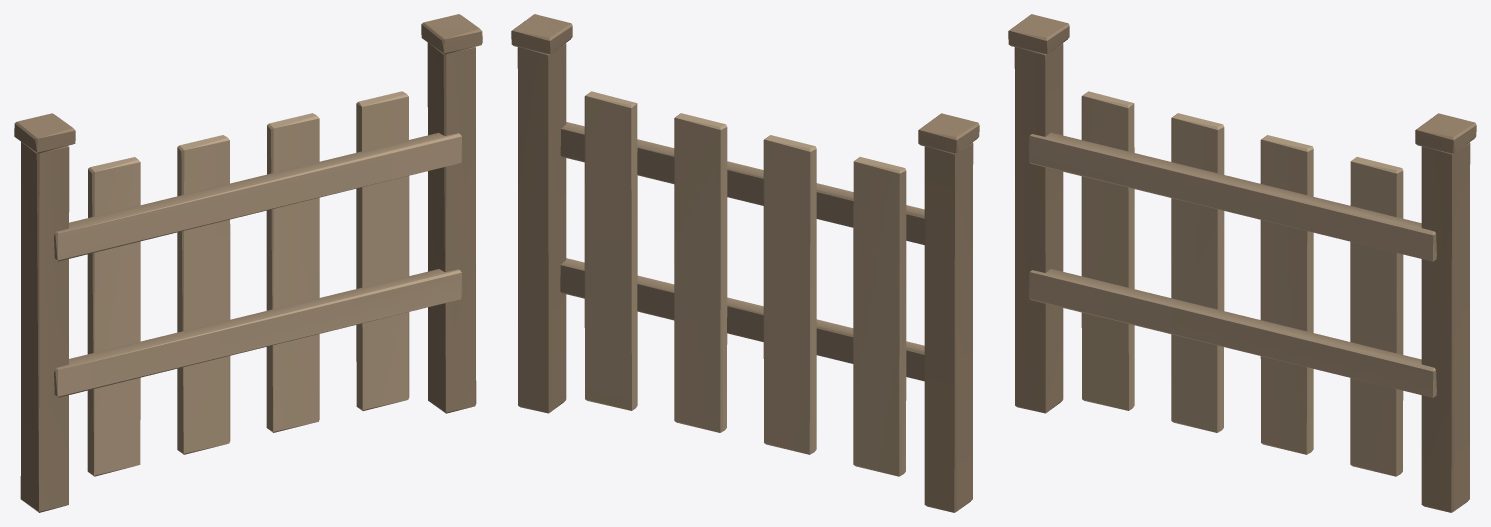
File: fence_wood_low.glb
3 renders of one model, left to right at view 1: azimuth 30°, elevation 25°; view 2: azimuth 150°, elevation 25°; view 3: azimuth 330°, elevation 25°, orthographic.
Size of the model in its own units: 1.1 by 0.89 by 0.0968.
